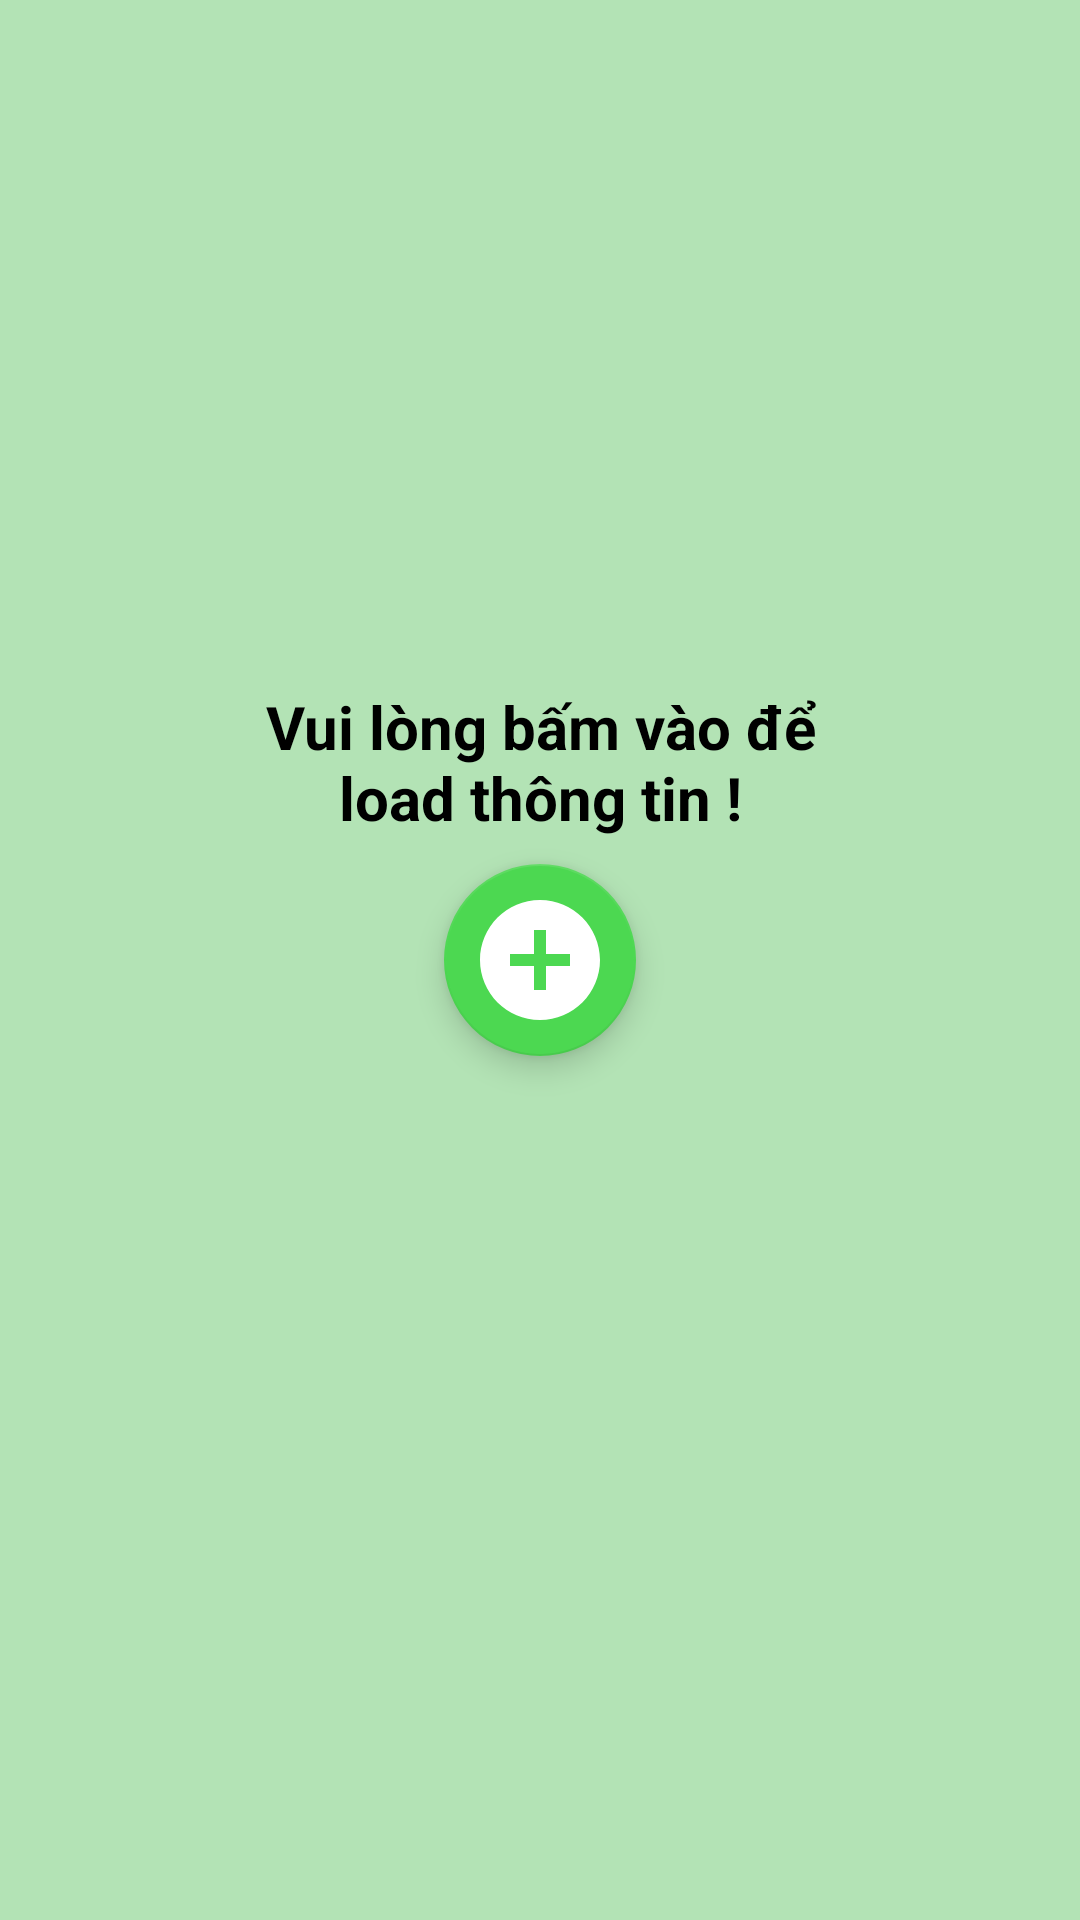

Locate icon controls on the screen. Image size 1080 × 1920, boxes as (x1, y1, x2, y2).
Nút thêm: (444, 864, 636, 1056)
